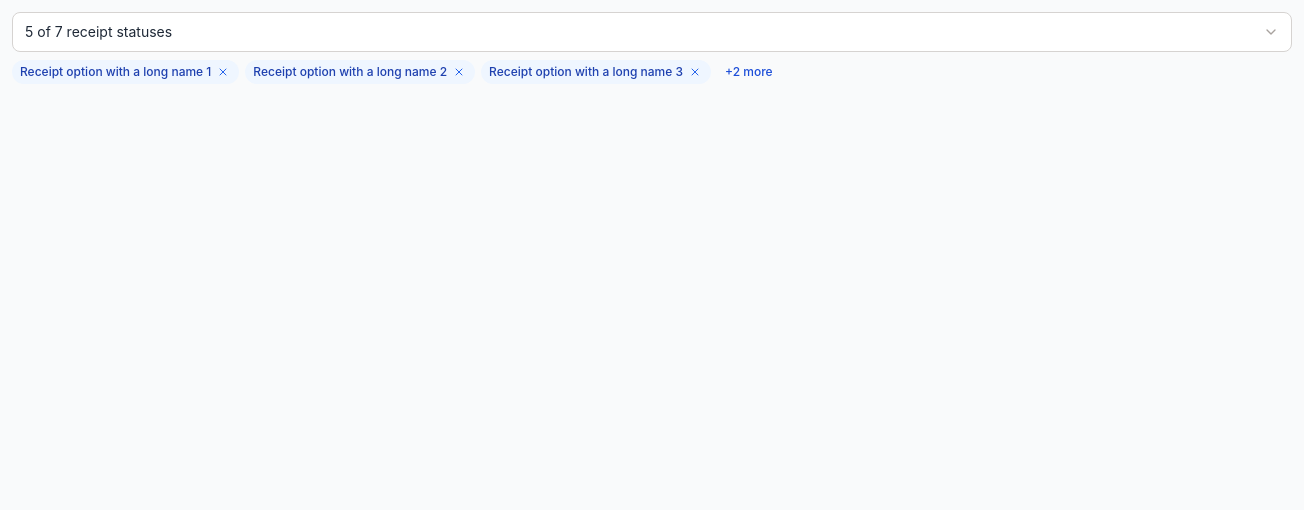
Scenario: SearchableMultiSelect summary › summarizes long selections, caps chips at three, and opens the list from more
The width and height of the screenshot is (1304, 510).
Check: the button with aria-label "5 receipt statuses selected" reads "5 of 7 receipt statuses", box [12,12,1292,52]
Check: the number of buttons named "Remove " is 3, box [215,64,231,80]; [451,64,467,80]; [687,64,703,80]
Click the button "+2 more": (749, 72) [717,60,781,84]
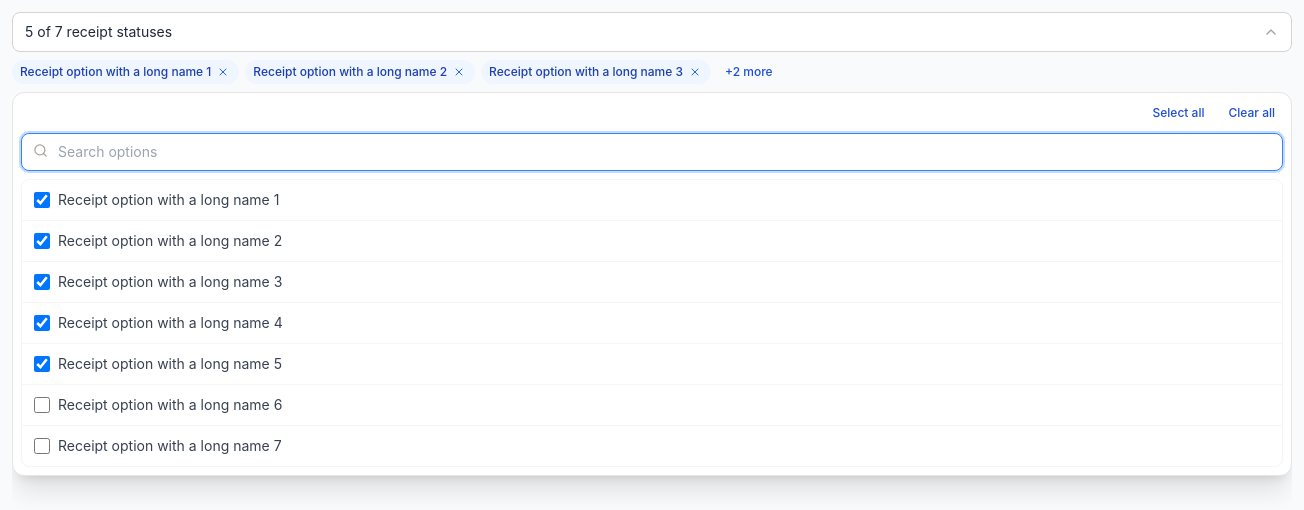
Check: the button with aria-label "5 receipt statuses selected" is expanded, box [12,12,1292,52]
Check: the list named "Receipt status options" is shown, box [21,179,1283,467]
